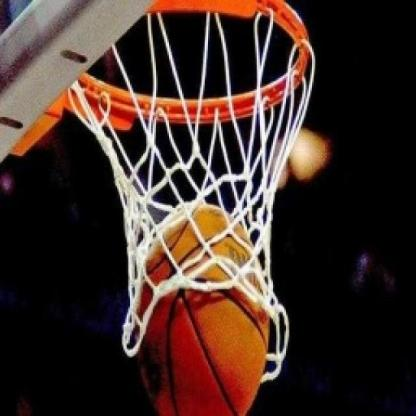basketball: (126, 194, 276, 416)
